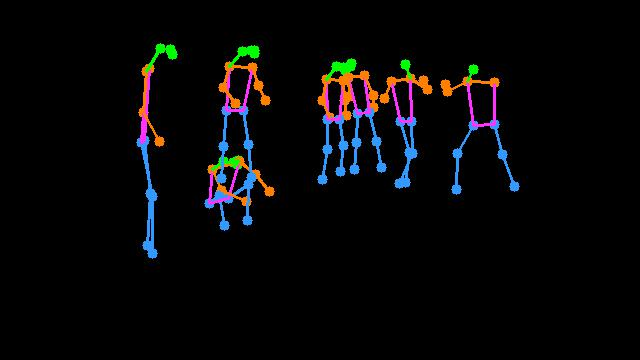normal: (117, 30, 190, 270), (306, 54, 392, 192)
